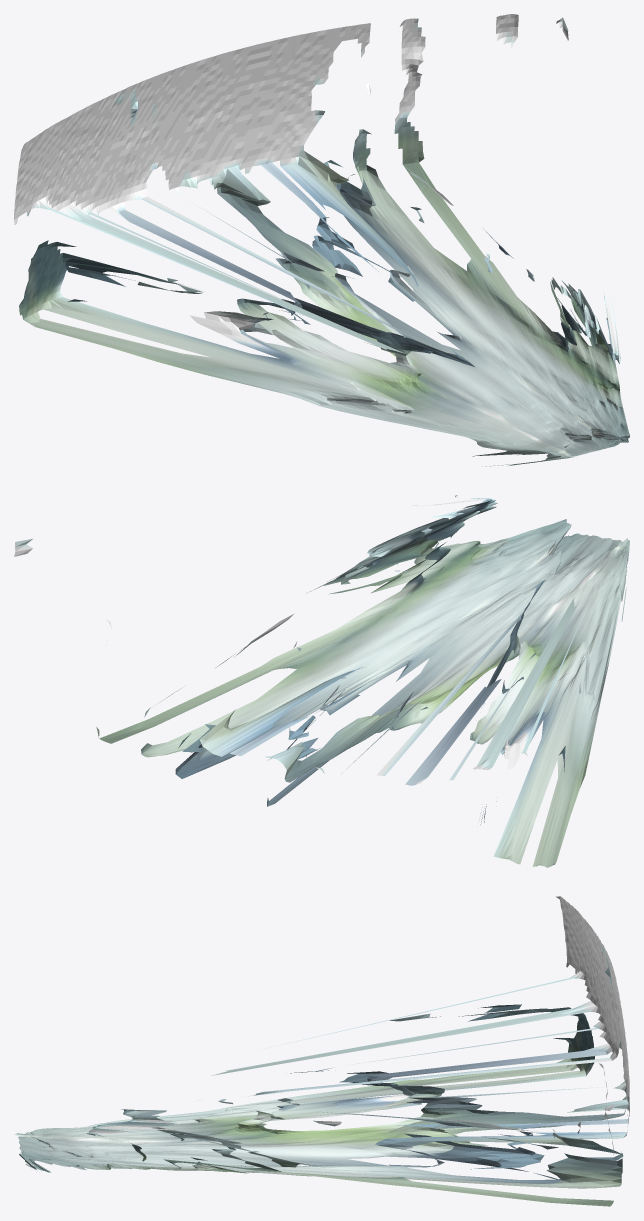
3 views of the same model, one above another, from view 1: azimuth 30°, elevation 25°; view 2: azimuth 150°, elevation 25°; view 3: azimuth 270°, elevation 25° (orthographic). The views are drawn at different scales.
Parts seen in each view (by area): view 1: defaultobject; view 2: defaultobject; view 3: defaultobject.
Part boxes in pixels (bbox=[...]): defaultobject: bbox=[14, 14, 629, 466]; defaultobject: bbox=[14, 495, 629, 867]; defaultobject: bbox=[14, 896, 629, 1206].
Bounding box in the file's own units: 40.42 × 14.3 × 44.62.
Materials: 1 (1 with a texture image).
